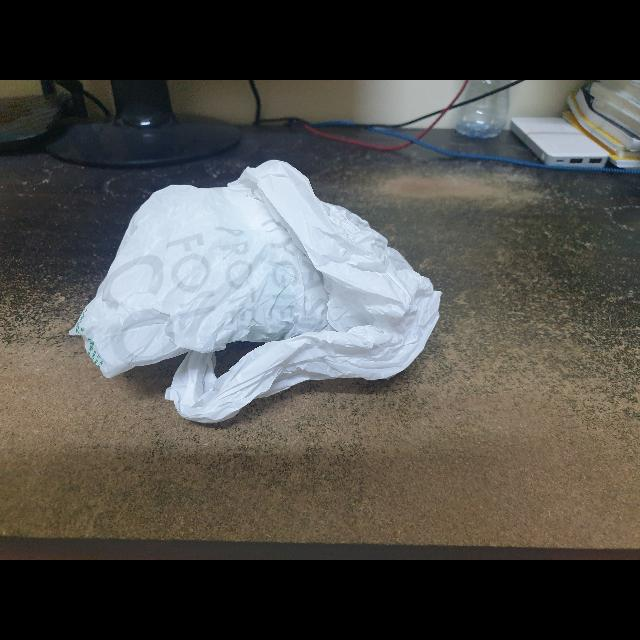plastic_bag: (55, 154, 449, 430)
